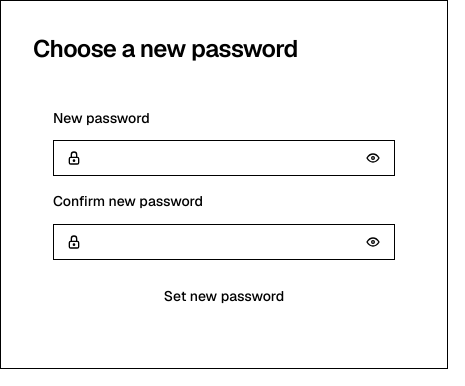
Scenario: ResetPasswordView › explains an expired or already-used link and offers a new one
In the password field labelled "New password": coordinates (220, 158) [82,140,357,176], type "brand-new-password"
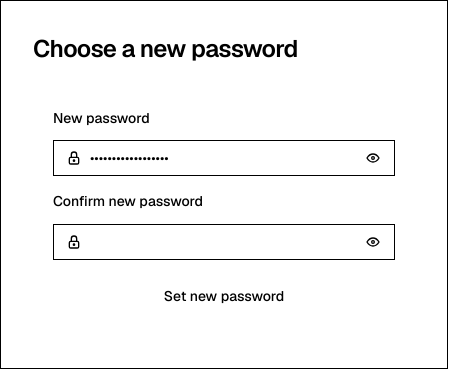
In the password field labelled "Confirm new password": coordinates (220, 242) [82,224,357,260], type "brand-new-password"
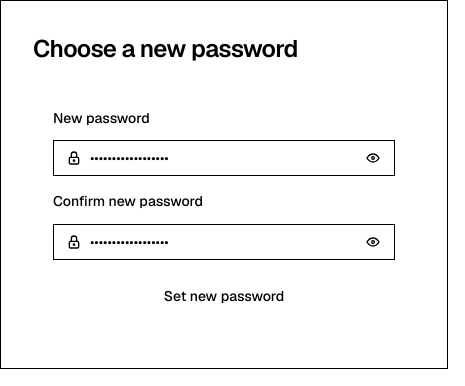
Click the button "Set new password": coordinates (224, 296) [53,276,395,316]
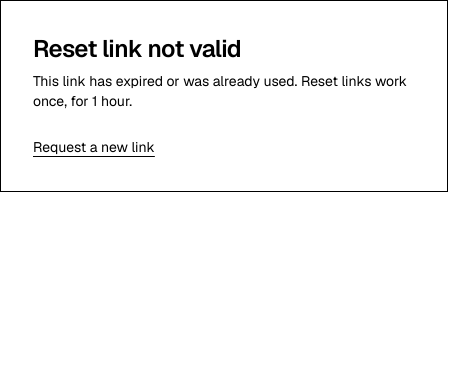
Expected: the text "expired or was already used" is shown, [33,72,407,110]
Expected: the link "Request a new link" is shown, [33,138,155,156]
